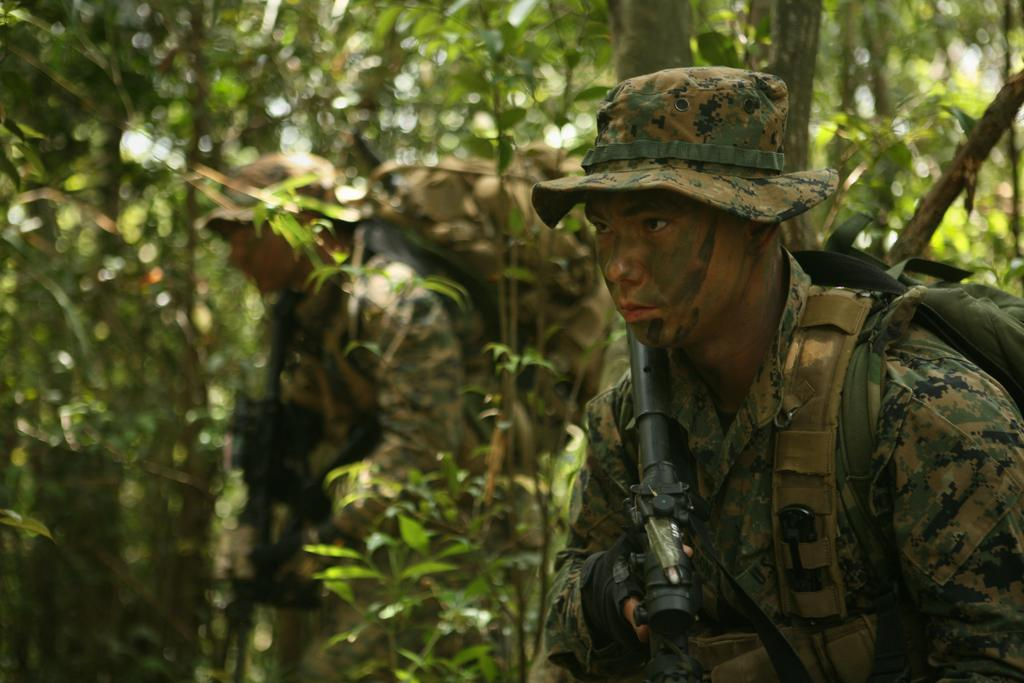Hat: (533, 64, 839, 225), (196, 146, 367, 238)
